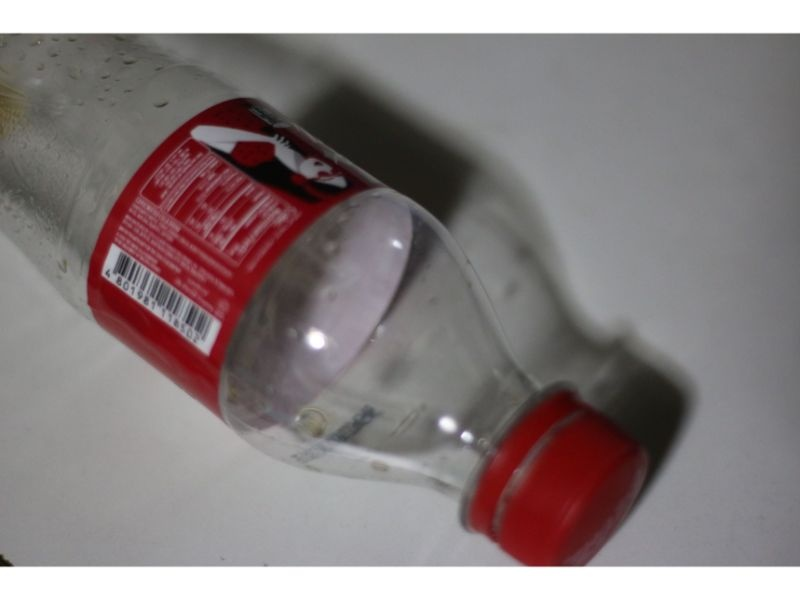PET #1: (2, 34, 652, 566)
